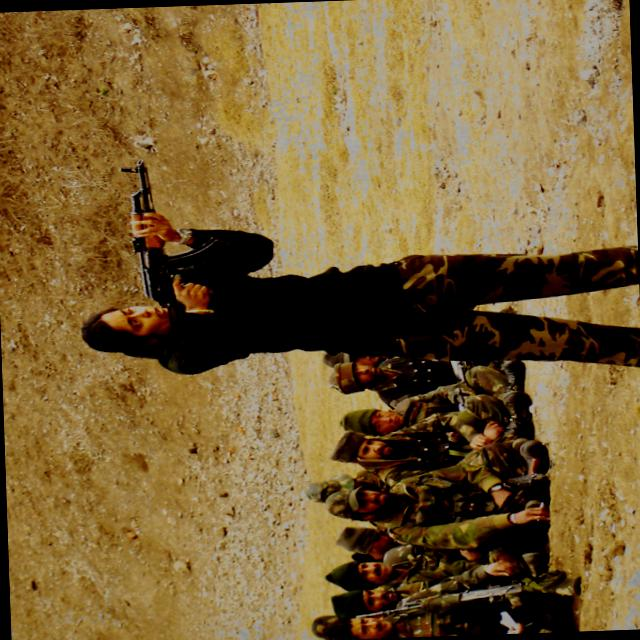long weapon: (105, 159, 216, 306)
